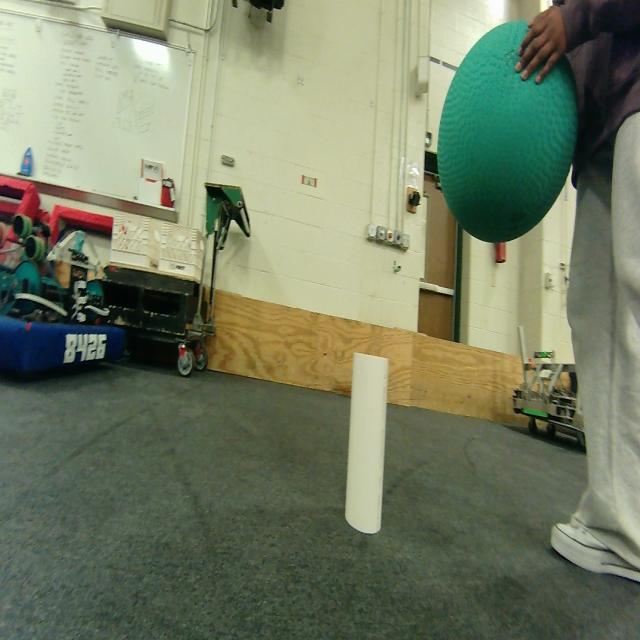algae: (436, 21, 578, 243)
